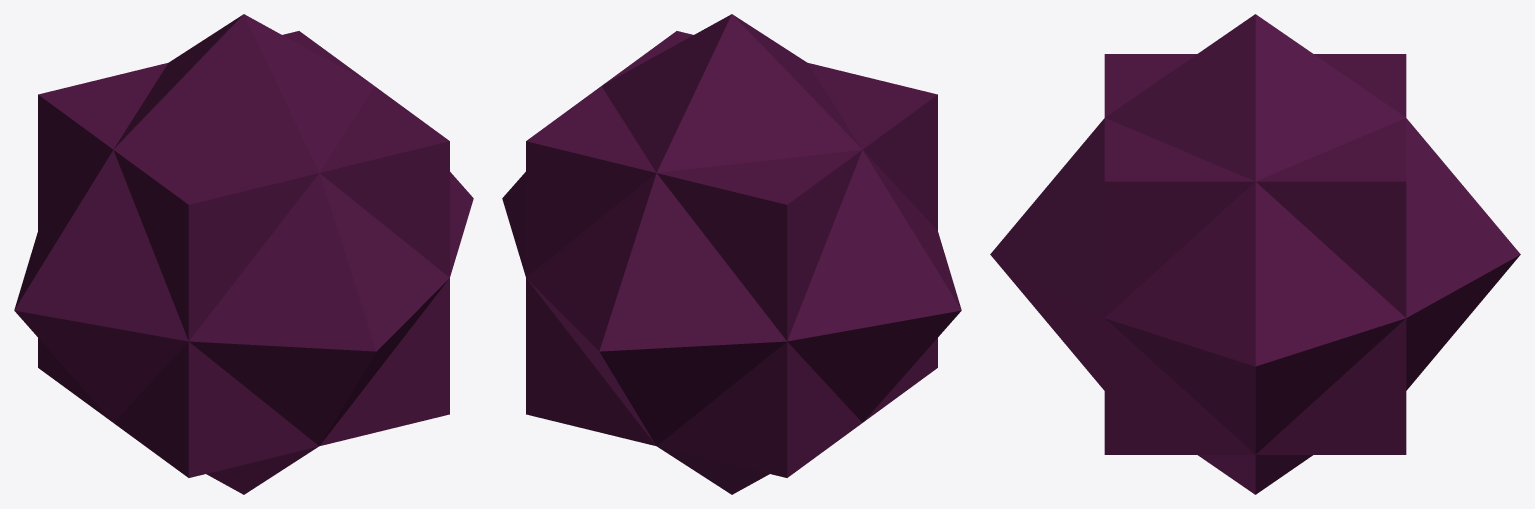
Rendered from lvl_9.FBX.
3 views of the same model, side by side, from view 1: azimuth 30°, elevation 25°; view 2: azimuth 150°, elevation 25°; view 3: azimuth 270°, elevation 25° (orthographic).
Visible parts, largest first — view 1: lvl_9; view 2: lvl_9; view 3: lvl_9.
Boxes of the visible parts, bbox=[...] form: lvl_9: bbox=[14, 14, 473, 494]; lvl_9: bbox=[502, 14, 961, 494]; lvl_9: bbox=[990, 14, 1520, 494].
Bounding box in the file's own units: 35.2 × 35.2 × 35.2.
